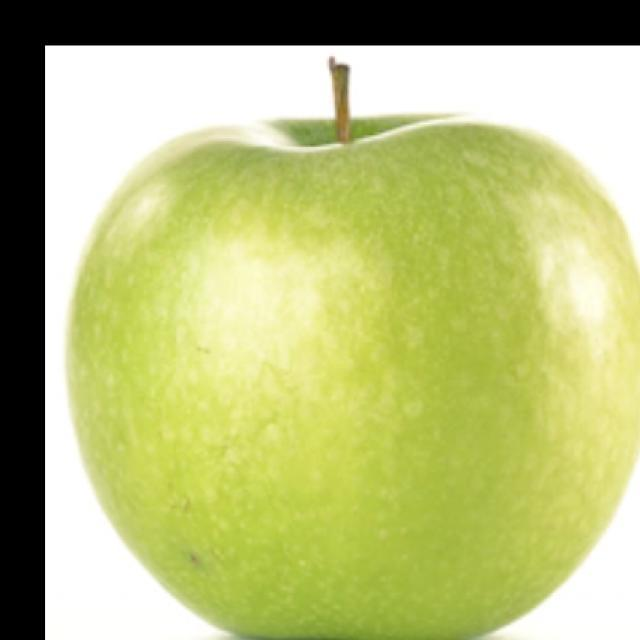Fresh Apple: (64, 94, 640, 640)
